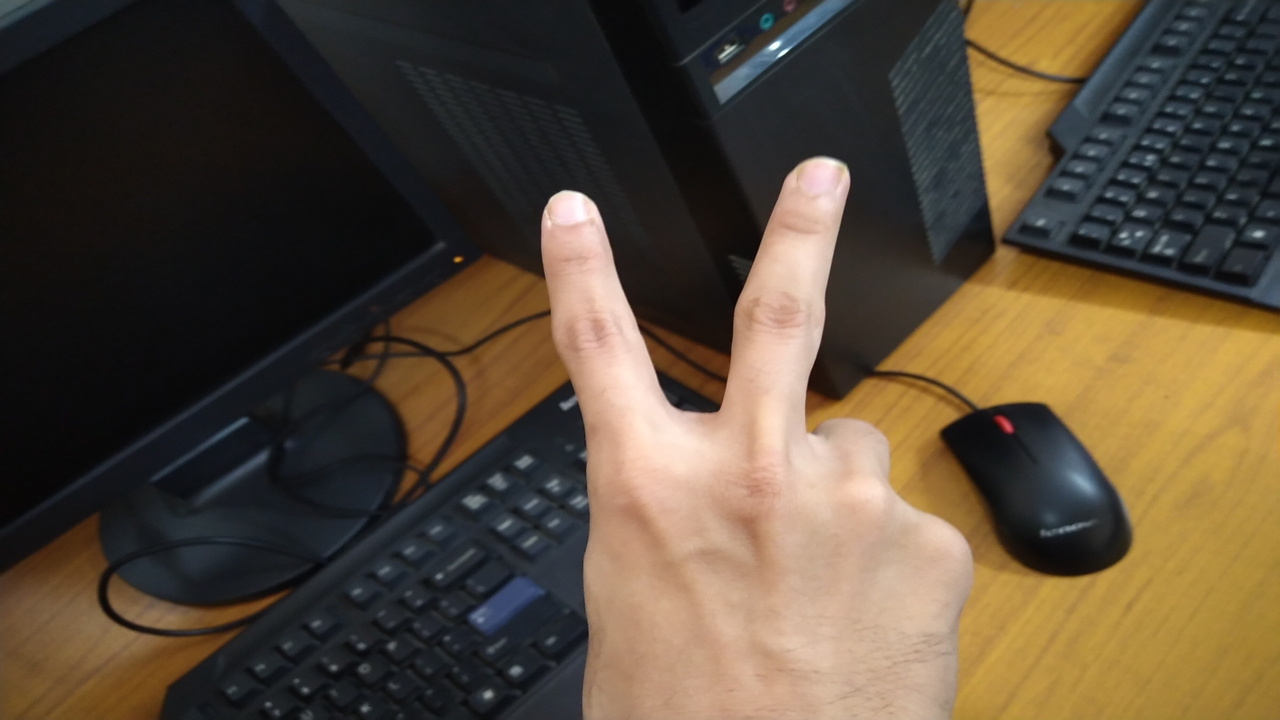fingertip: (776, 148, 860, 226), (534, 182, 608, 256)
